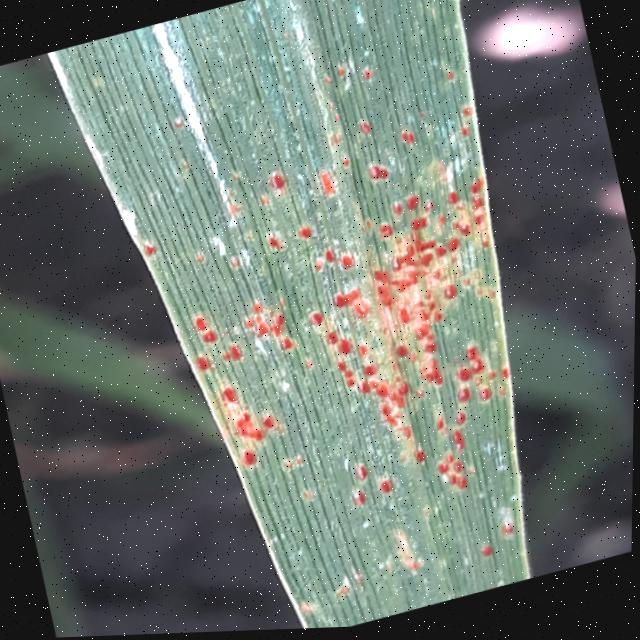orang_rust: (28, 0, 616, 639)
